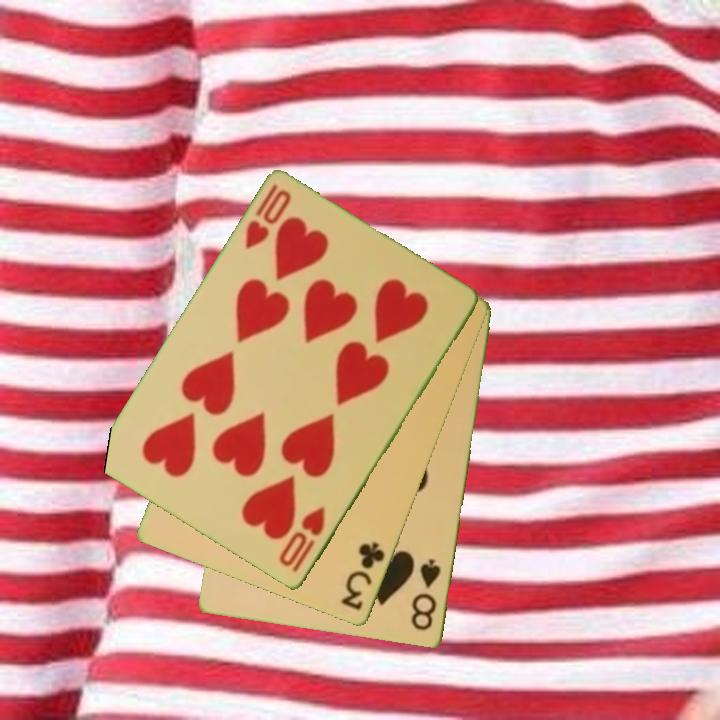10h: (275, 504, 329, 576), (241, 181, 295, 253)
3c: (337, 539, 388, 614)
8s: (408, 556, 444, 634)
